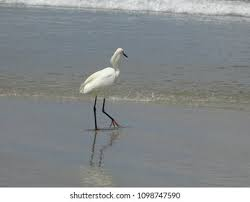Walking: (77, 42, 151, 139)
